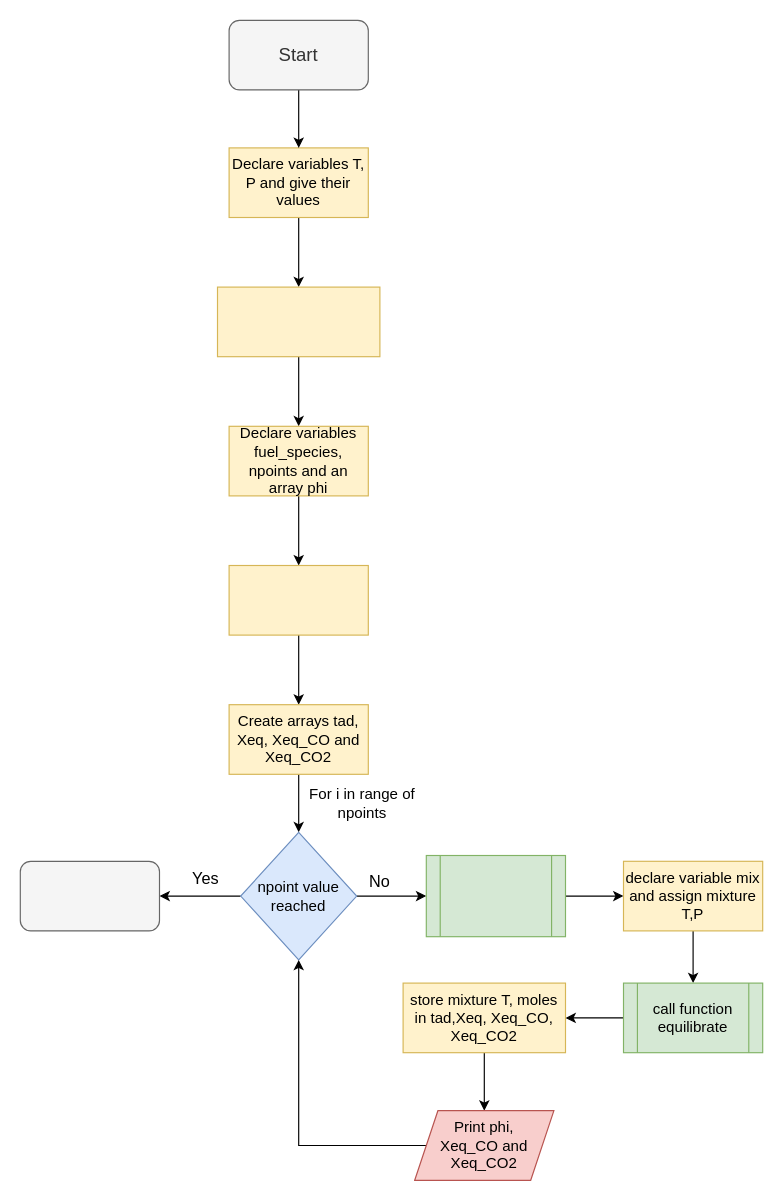
Image size: 783x1201. Some labels were removed from this diagram. The shapes that lost their labels are listed below. From the top down, each one's box as (x1, y1, x2, y2) in pixels, then its label:
(216, 286, 380, 357): Create variable for phases and a variable mix_phases
(228, 564, 368, 635): Declare a variable mix
(19, 860, 160, 931): Stop
(425, 854, 566, 937): call function set equivalence ratio to set phi value
